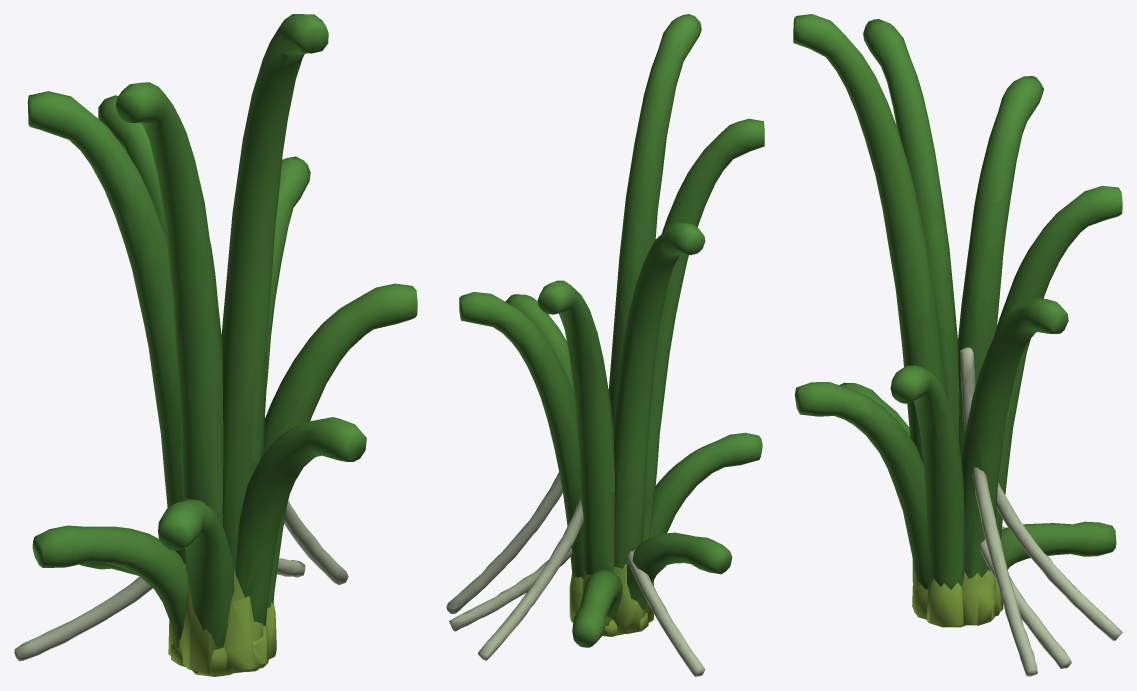
Rendered from canopy_monstera_stem_lod1.glb.
3 renders of one model, left to right at view 1: azimuth 30°, elevation 25°; view 2: azimuth 150°, elevation 25°; view 3: azimuth 270°, elevation 25°, orthographic. The views are drawn at different scales.
Parts seen in each view (by area): view 1: canopy_monstera_stem.001; view 2: canopy_monstera_stem.001; view 3: canopy_monstera_stem.001.
Boxes of the visible parts, bbox=[...] form: canopy_monstera_stem.001: bbox=[14, 14, 417, 676]; canopy_monstera_stem.001: bbox=[446, 14, 764, 676]; canopy_monstera_stem.001: bbox=[793, 14, 1122, 676].
Size of the model in its own units: 9.48 by 19.15 by 9.61.
